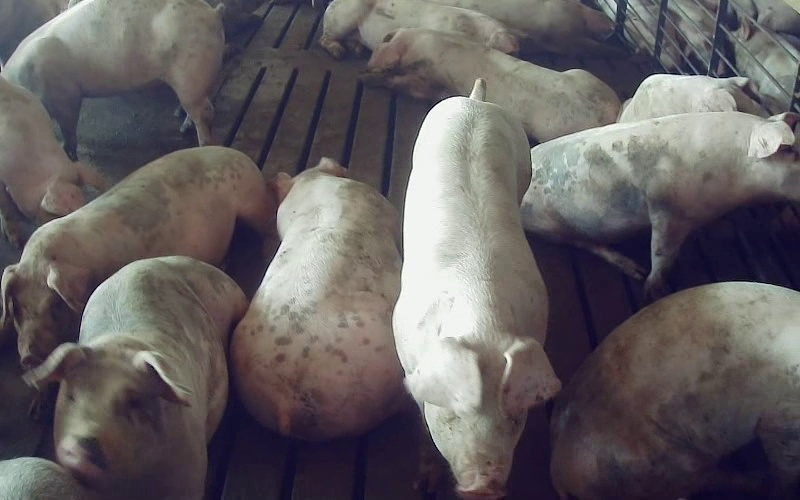pig: (393, 79, 559, 497), (2, 146, 274, 366), (551, 282, 799, 499), (25, 256, 246, 499), (521, 112, 799, 297), (231, 158, 405, 440), (362, 29, 620, 142), (320, 0, 518, 57)
